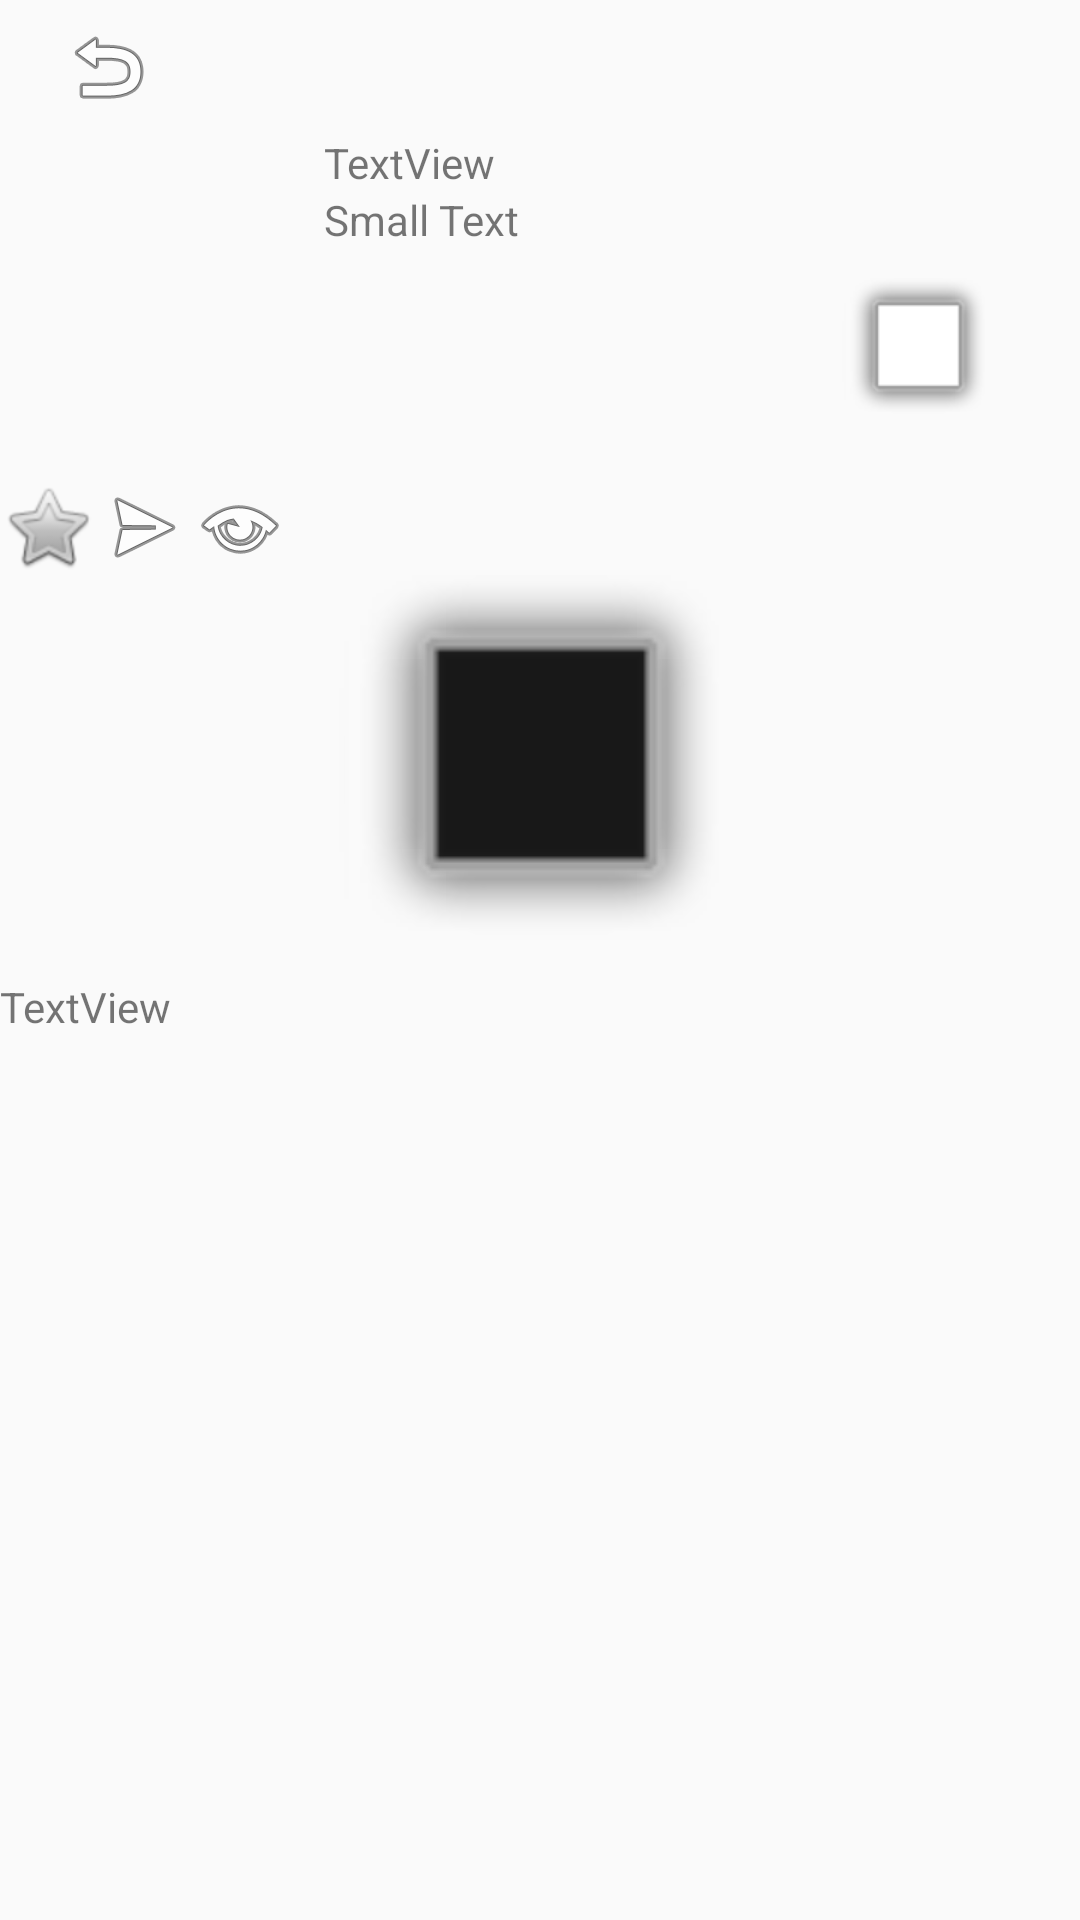

Screen size 1080 x 1920. Icon name, then its box in pixels as [x1=x1, y1=y1, x2=x2, y2=y2]:
revert: [x1=75, y1=36, x2=144, y2=99]
send: [x1=114, y1=497, x2=176, y2=558]
star off: [x1=9, y1=489, x2=89, y2=567]
view: [x1=201, y1=505, x2=279, y2=554]
